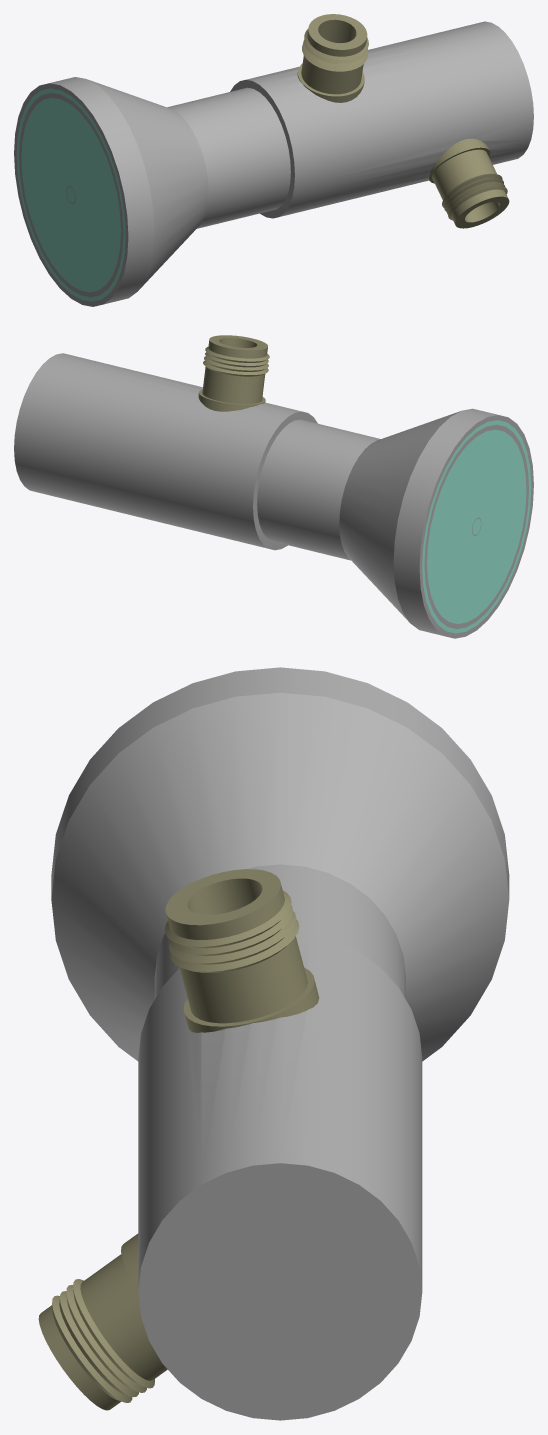
The model's file is FeedHorn.glb.
3 views of the same model, one above another, from view 1: azimuth 30°, elevation 25°; view 2: azimuth 150°, elevation 25°; view 3: azimuth 270°, elevation 25° (orthographic). The views are drawn at different scales.
Visible parts, largest first — view 1: Cilindro, Cilindro.001, Cilindro.004; view 2: Cilindro, Cilindro.001; view 3: Cilindro, Cilindro.001, Cilindro.004.
Part boxes in pixels (bbox=[...]): Cilindro: bbox=[14, 21, 533, 306]; Cilindro.001: bbox=[297, 14, 368, 102]; Cilindro.004: bbox=[428, 138, 509, 228]; Cilindro: bbox=[14, 353, 533, 638]; Cilindro.001: bbox=[198, 335, 269, 411]; Cilindro: bbox=[51, 667, 509, 1420]; Cilindro.001: bbox=[164, 869, 319, 1032]; Cilindro.004: bbox=[38, 1233, 167, 1410].
Size of the model in its own units: 4.39 by 2.18 by 2.09.
